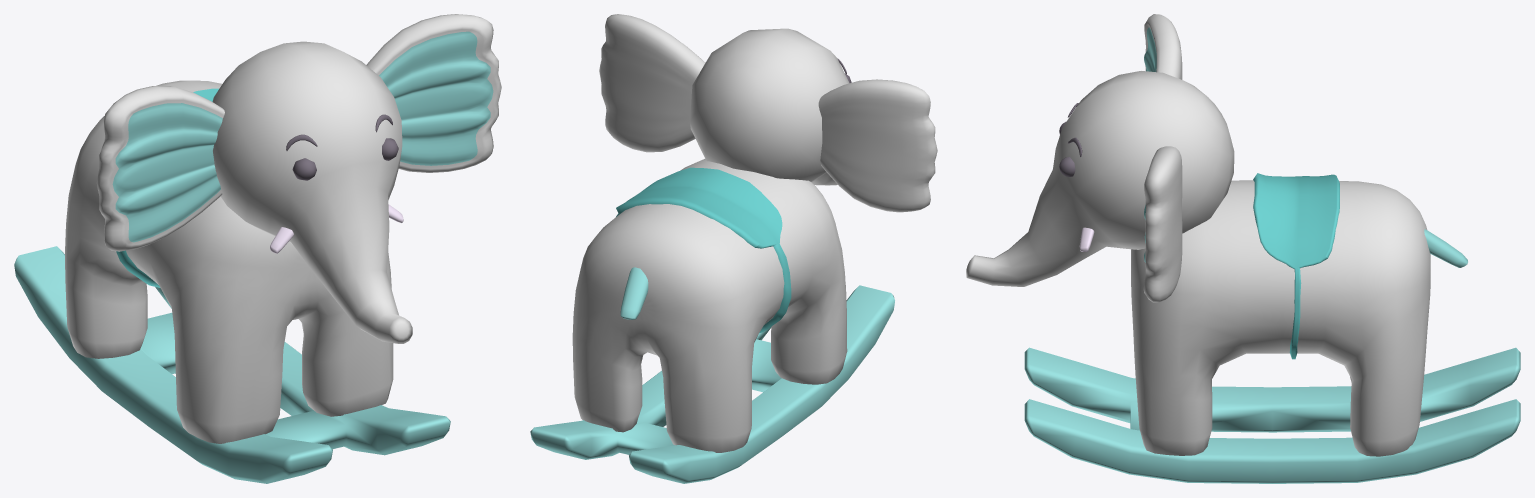
Rendered from Plush_Rocking_Elephent.fbx.
3 renders of one model, left to right at view 1: azimuth 30°, elevation 25°; view 2: azimuth 150°, elevation 25°; view 3: azimuth 270°, elevation 25°, orthographic. The views are drawn at different scales.
Parts seen in each view (by area): view 1: Plush_Rocking_Elephent; view 2: Plush_Rocking_Elephent; view 3: Plush_Rocking_Elephent.
Boxes of the visible parts, bbox=[...] form: Plush_Rocking_Elephent: bbox=[14, 14, 501, 483]; Plush_Rocking_Elephent: bbox=[530, 14, 937, 483]; Plush_Rocking_Elephent: bbox=[966, 14, 1520, 483].
Bounding box in the file's own units: 19.68 × 19.34 × 26.24.
1 material, 1 textured.
